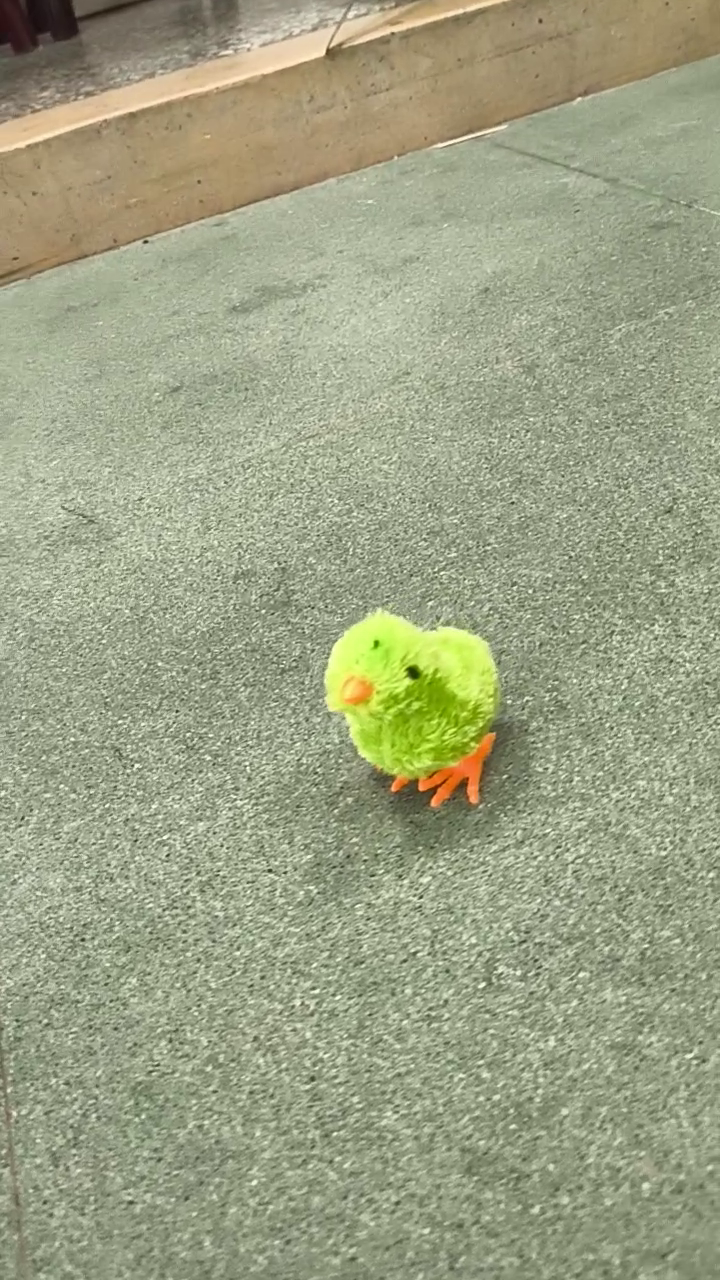green chicken: (319, 606, 502, 814)
